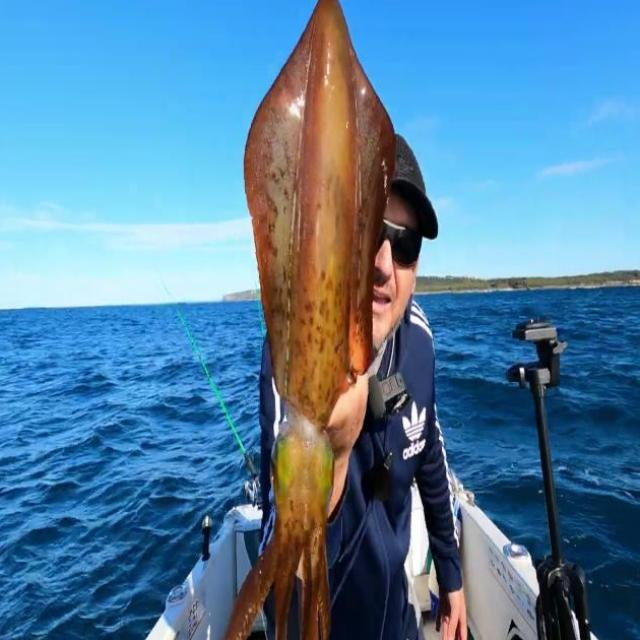SQUID: (185, 0, 432, 640)
